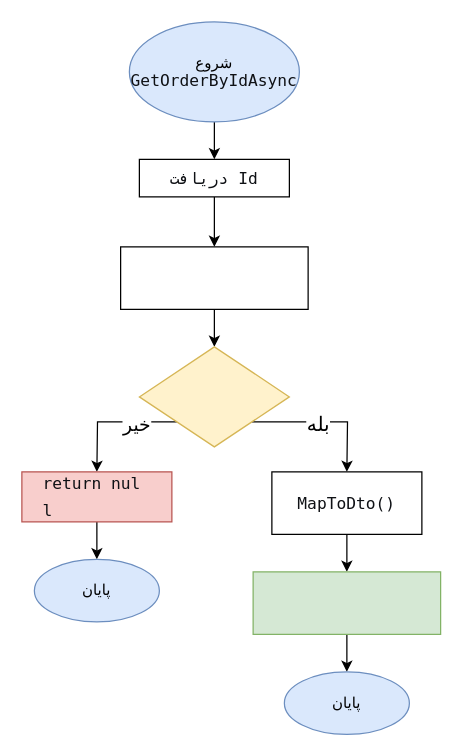
Image size: 463x756. Some labels were removed from this diagram. The shapes that lost their labels are listed below. From the top down, each one's centre as x and y in pixels, then its label:
the point at 213,277: GetByIdAsync(id)
the point at 213,396: سفارش وجود دارد؟
the point at 346,602: return OrderDto
